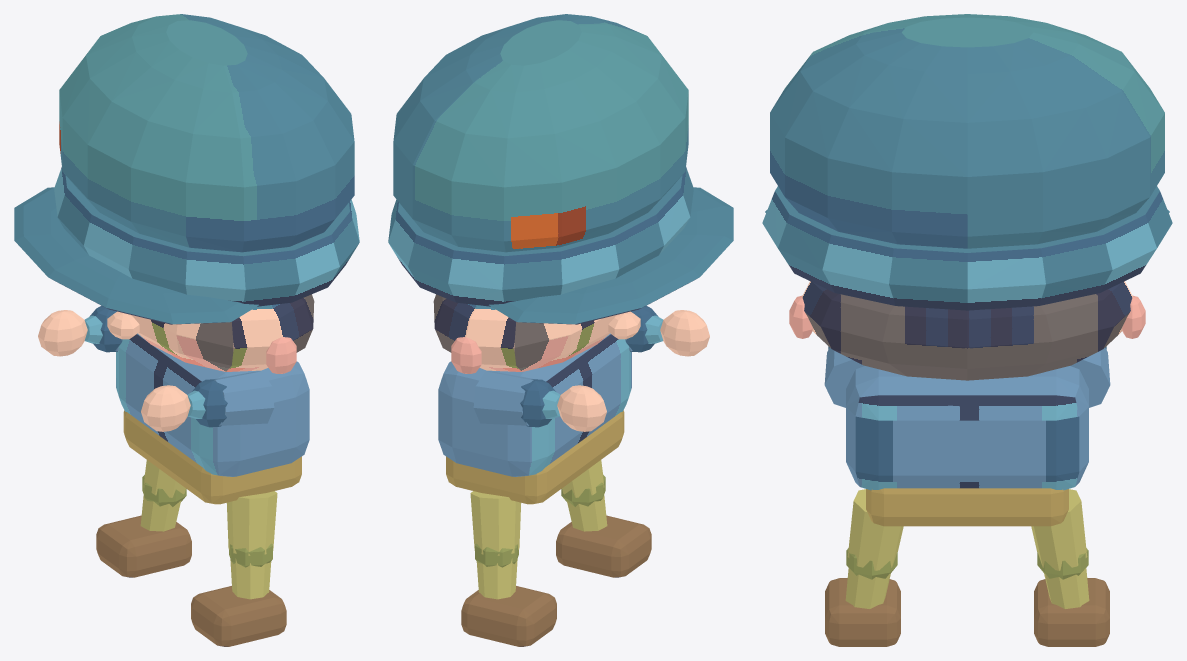
The model's file is rider.glb.
3 views of the same model, side by side, from view 1: azimuth 30°, elevation 25°; view 2: azimuth 150°, elevation 25°; view 3: azimuth 270°, elevation 25° (orthographic). The views are drawn at different scales.
Visible parts, largest first — view 1: Person7_static_seated; view 2: Person7_static_seated; view 3: Person7_static_seated.
Part boxes in pixels (box(x1,y1,x2,y2)): Person7_static_seated: box(14, 14, 359, 646); Person7_static_seated: box(388, 14, 733, 646); Person7_static_seated: box(762, 14, 1172, 646).
Bounding box in the file's own units: 12.35 × 23.07 × 14.09.
1 material, 1 textured.
